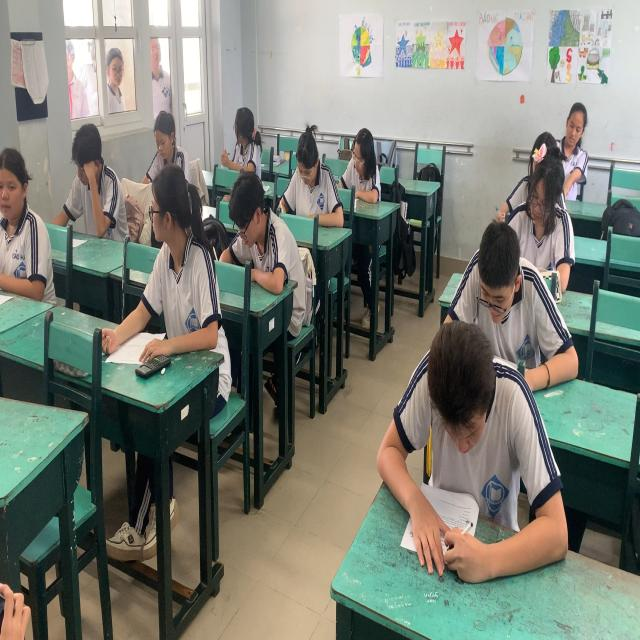cheating: (116, 157, 226, 395)
not_cheating: (362, 329, 570, 497), (456, 191, 576, 394), (214, 145, 314, 345), (50, 81, 142, 263), (0, 119, 67, 320), (505, 110, 581, 286), (268, 104, 355, 256), (327, 83, 413, 232), (120, 76, 206, 219), (203, 67, 284, 207), (550, 36, 591, 215)
